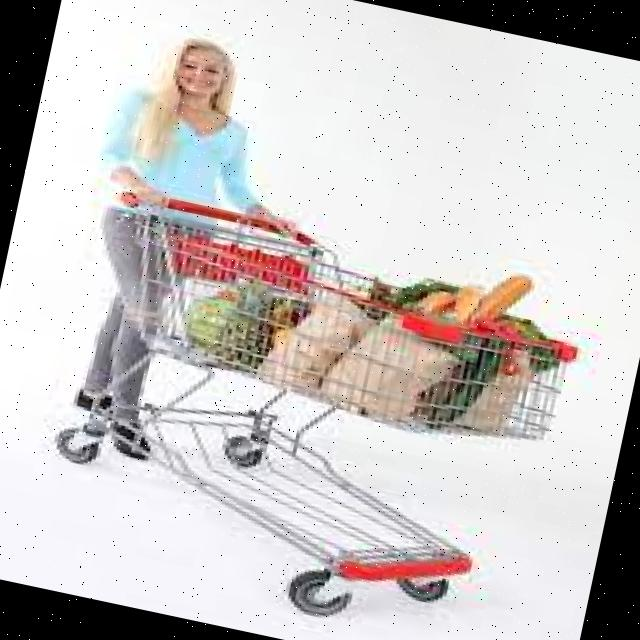Person: (48, 28, 330, 480)
